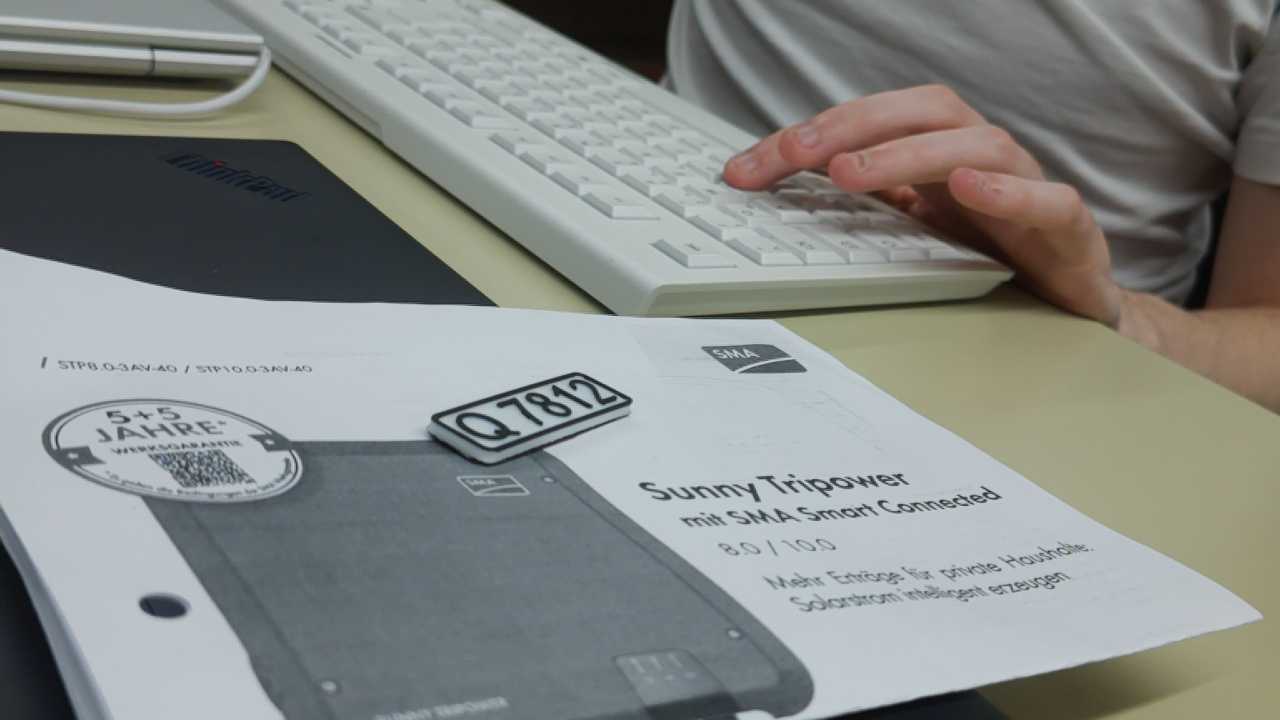license_plate: (424, 364, 637, 480)
